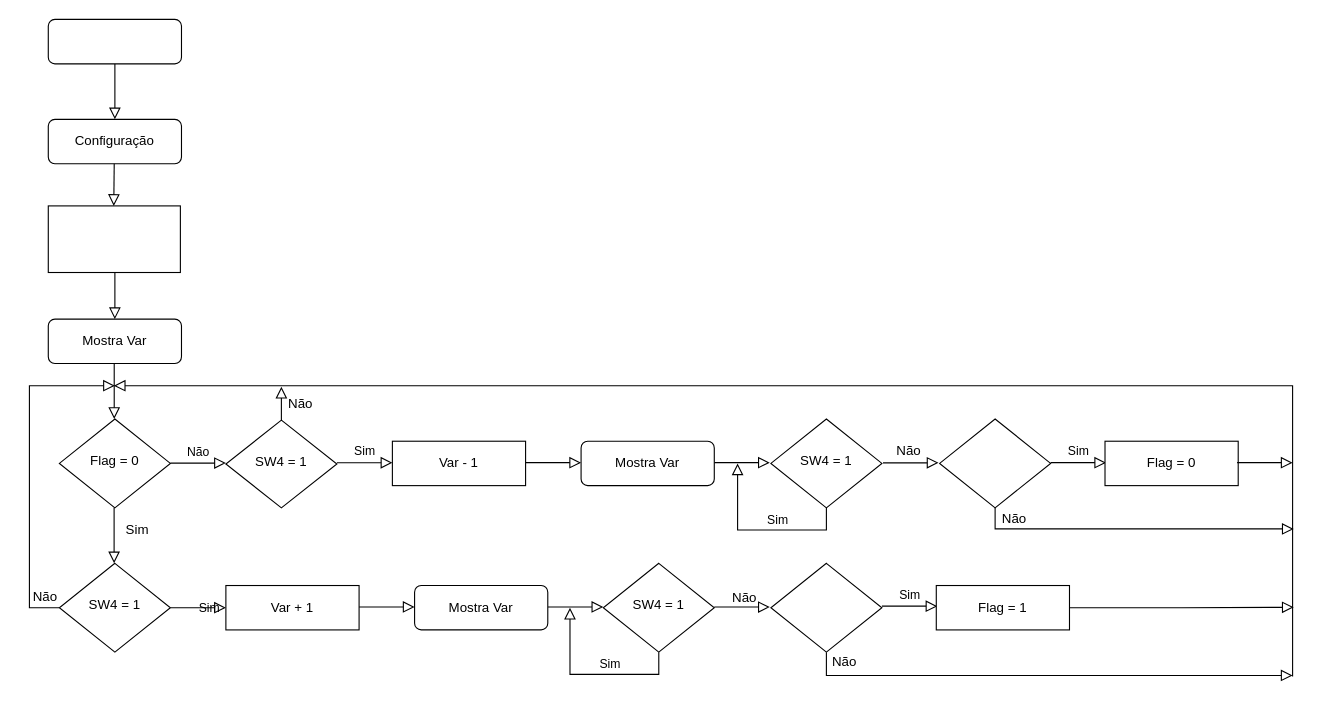
The diagram is 1324 pixels wide and 707 high, and some of its shapes have lost their labels. The shapes that lost their labels are listed below. From the top down, each one's box as (x1, y1, x2, y2) in pixels, then its label:
(47, 18, 181, 64): Início
(47, 205, 180, 273): Var = 0 Máx = 255 Mín = 0 Flag = 0
(939, 418, 1051, 508): Var = Mín
(770, 562, 882, 652): Var = Máx
